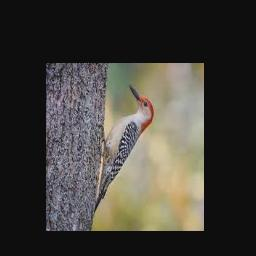Woodpecker: (93, 85, 154, 214)
